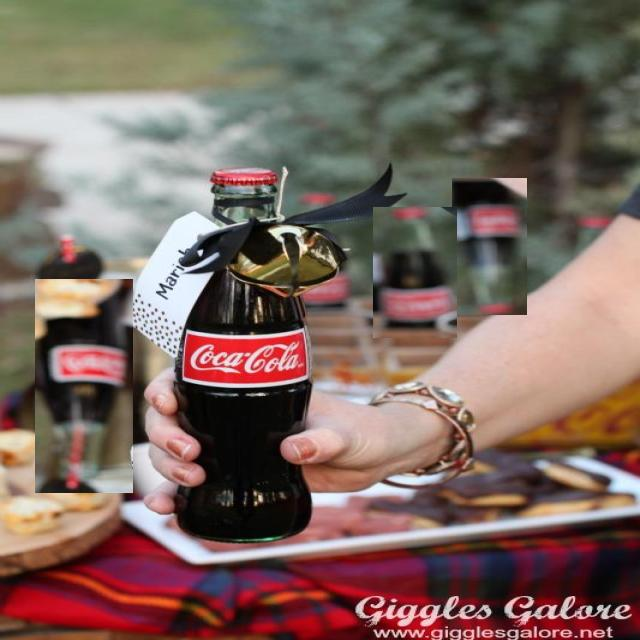coca-cola: (161, 160, 330, 548), (35, 279, 133, 493), (373, 207, 458, 338), (452, 178, 527, 315)
